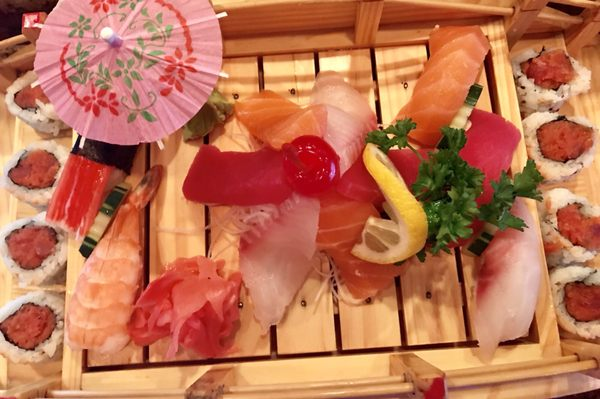burger: (30, 0, 225, 146)
soup: (66, 166, 164, 356)
